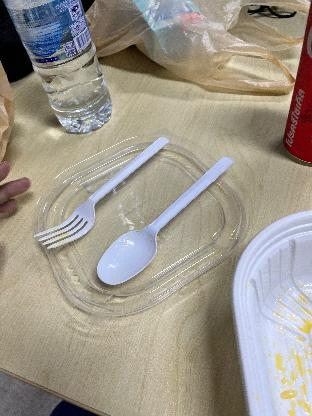Others: (94, 148, 234, 292), (34, 130, 171, 252)
Plastic Bottle: (5, 0, 116, 132)
